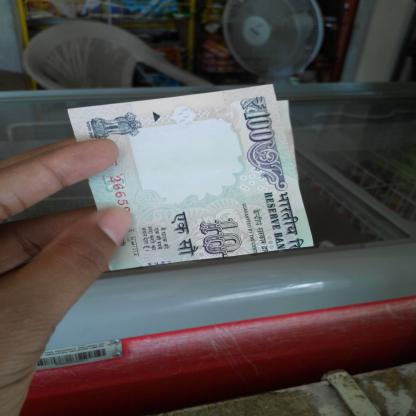Old100Front: (66, 83, 314, 270)
